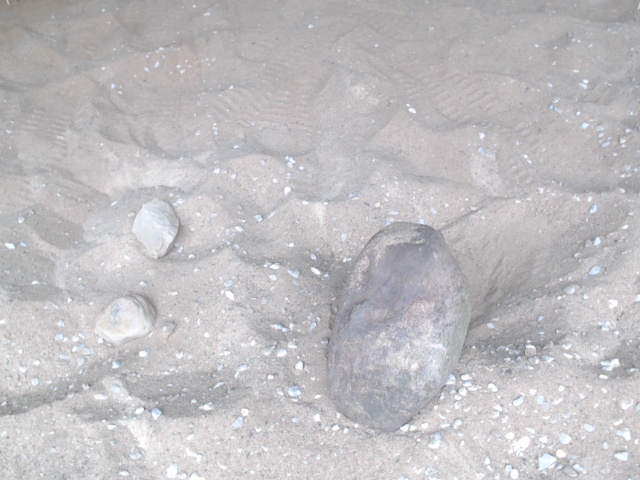rock: (321, 216, 477, 439), (91, 289, 161, 352), (129, 194, 184, 264)
